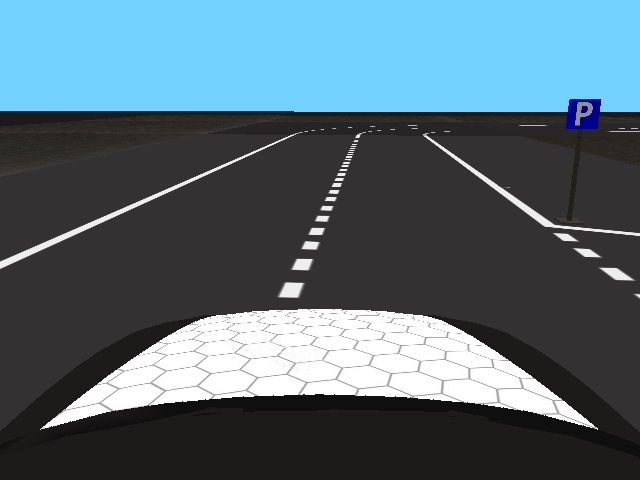parking: (565, 99, 602, 130)
